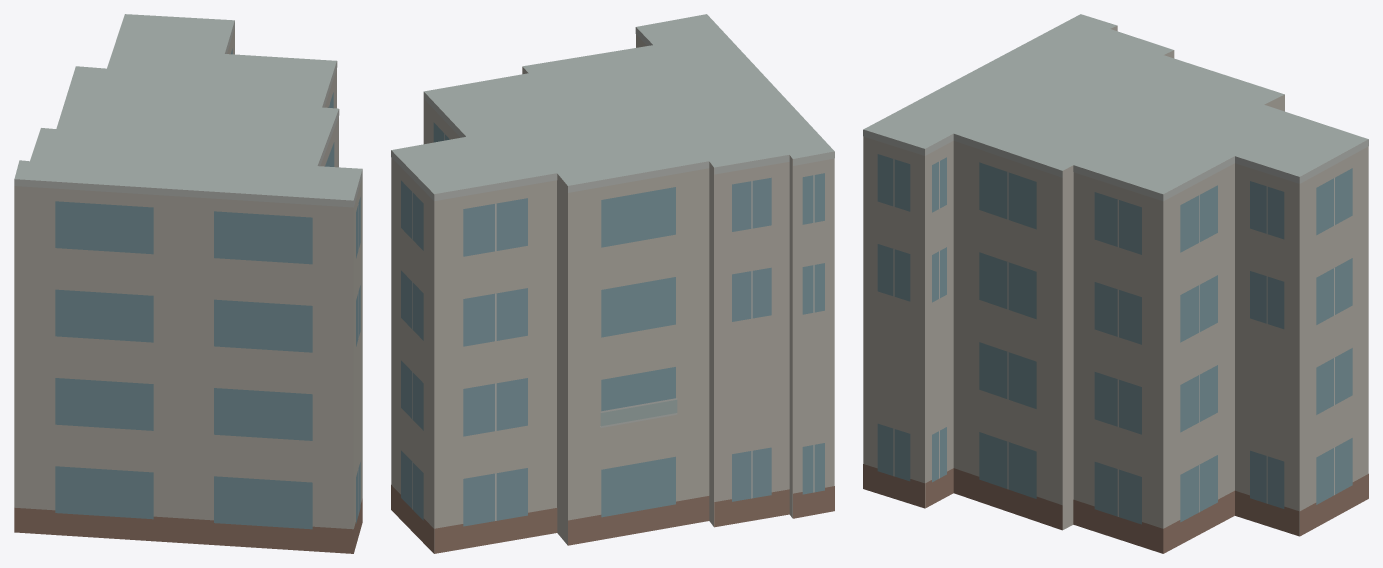
Rendered from survey-upis-33025724.glb.
3 renders of one model, left to right at view 1: azimuth 30°, elevation 25°; view 2: azimuth 150°, elevation 25°; view 3: azimuth 270°, elevation 25°, orthographic.
Parts seen in each view (by area): view 1: survey-upis-33025724.tmp; view 2: survey-upis-33025724.tmp; view 3: survey-upis-33025724.tmp.
Boxes of the visible parts, x1,y1,x2,y2 form: survey-upis-33025724.tmp: (14, 14, 362, 553); survey-upis-33025724.tmp: (391, 14, 834, 553); survey-upis-33025724.tmp: (863, 14, 1368, 553).
Size of the model in its own units: 13.46 by 12.5 by 15.94.
